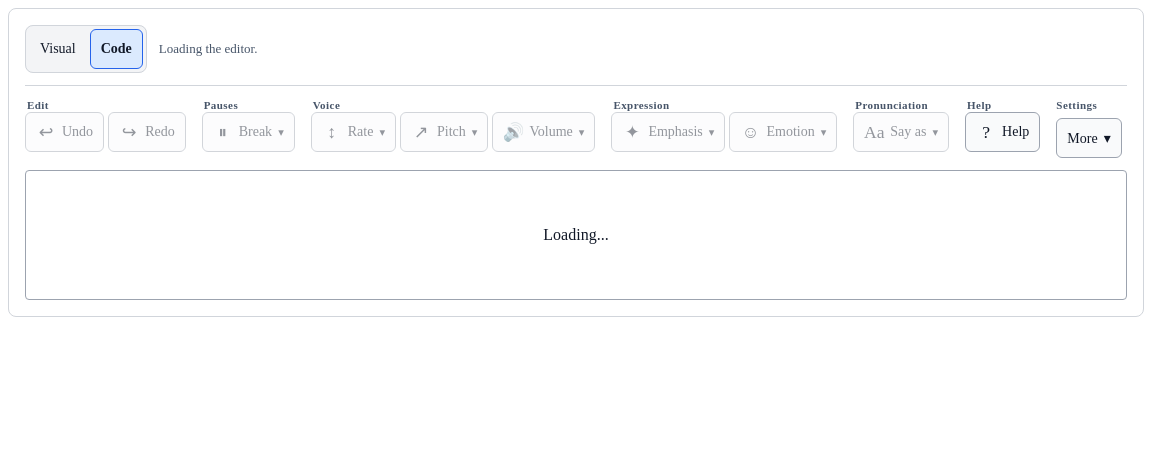
SsmlEditor toolbar UX › labels frequent actions and progressively reveals advanced settings
Check: the button "↕ Rate ▾" is shown, box [311, 112, 396, 152]
Check: the element "Voice" is shown, box [311, 98, 595, 152]
Click the button "More ▾" at (1089, 138), box [1056, 118, 1122, 158]
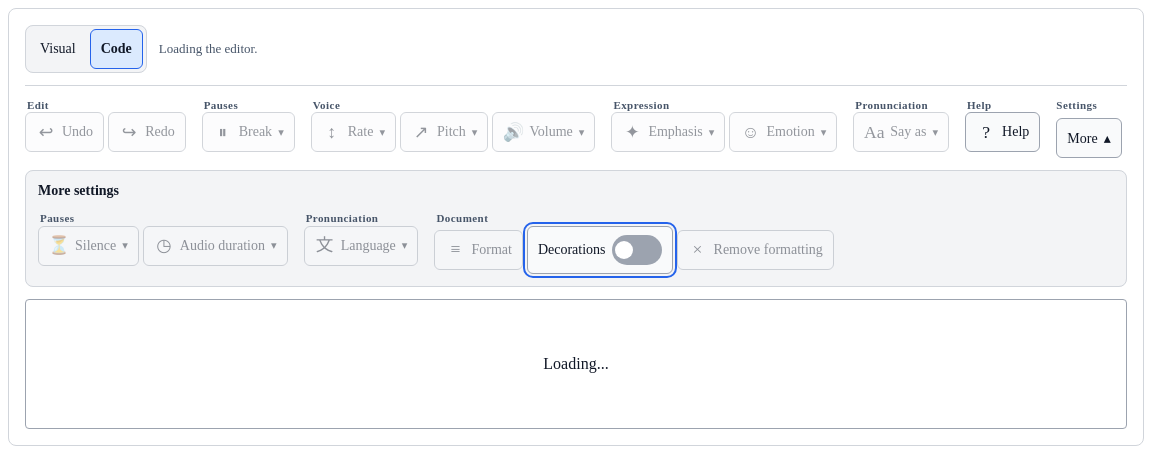
Check: the button "More ▴" is expanded
Check: the button "文 Language ▾" is shown, box [304, 226, 418, 266]
Check: the button "⏳ Silence ▾" is shown, box [38, 226, 139, 266]
Click the button "More ▴" at (1089, 138), box [1056, 118, 1122, 158]
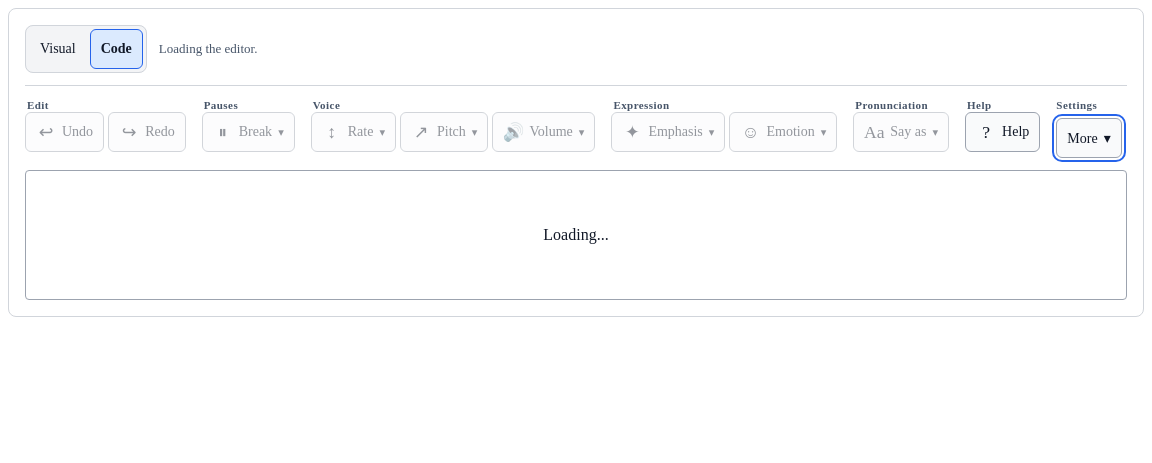
Check: the text "More settings" is gone
